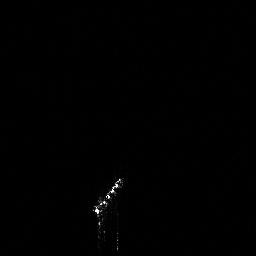ship: (88, 173, 128, 229)
